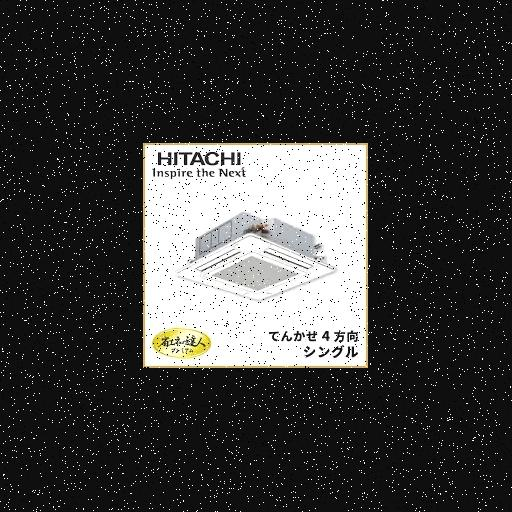4-way-ac: (176, 233, 336, 300)
